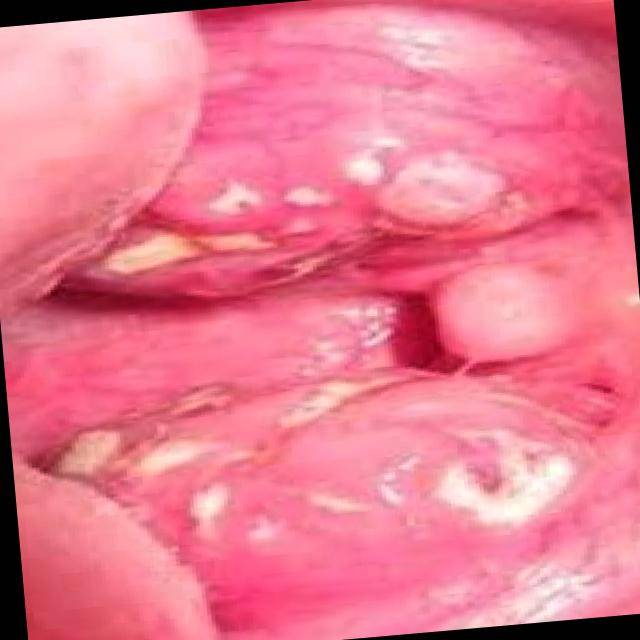pharyngitis: (48, 0, 607, 316), (34, 366, 607, 631), (432, 264, 588, 359)
